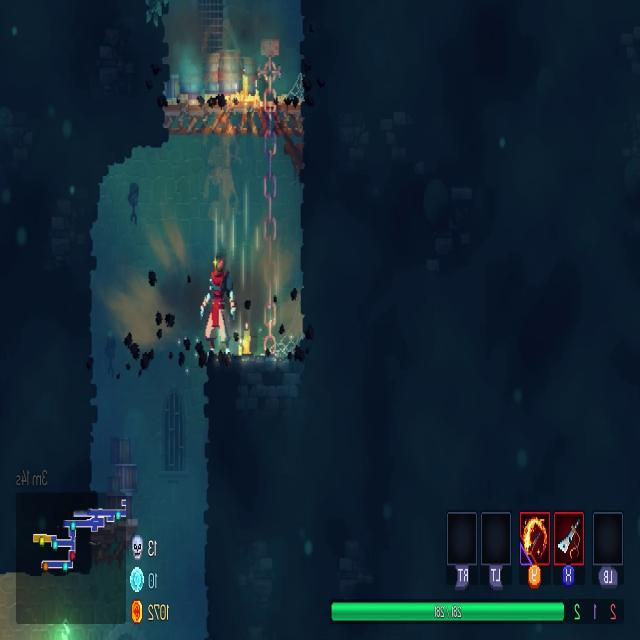agents: (199, 241, 236, 346)
wood_floor: (165, 92, 300, 138)
